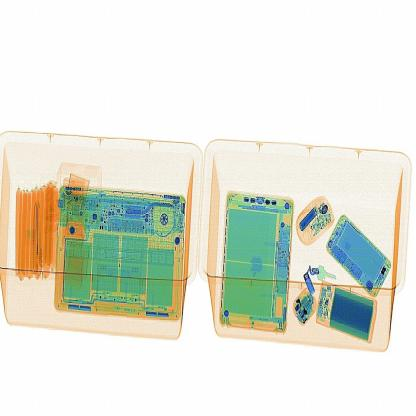wrench: (32, 192, 46, 280)
